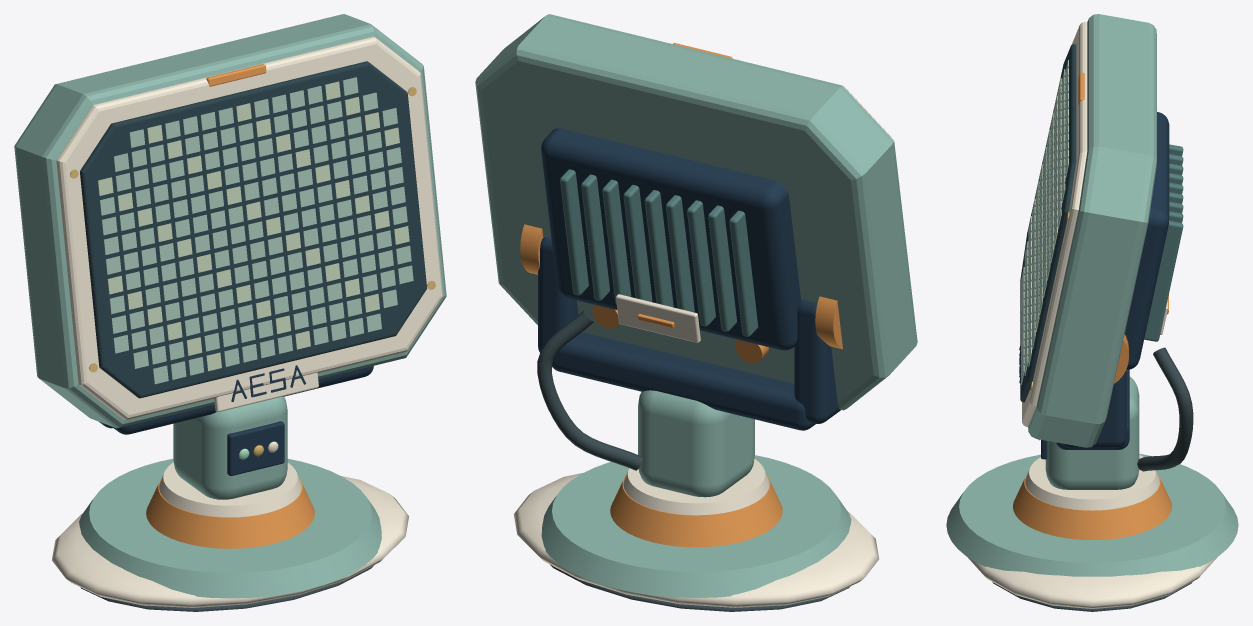
Rendered from AESA_Radar.glb.
3 renders of one model, left to right at view 1: azimuth 30°, elevation 25°; view 2: azimuth 150°, elevation 25°; view 3: azimuth 270°, elevation 25°, orthographic. The views are drawn at different scales.
Visible parts, largest first — view 1: Dark array inset, DecorativeArrayModules - Sage modules, Pedestal - Soft seafoam, Rounded octagonal outer housing, AntennaPanel - Warm ivory, Pedestal - Warm ivory, DecorativeArrayModules - Warm pale modules, Orange rotation collar, Front inset plate, AntennaSupport - Deep navy, Small ivory nameplate, Rubber underside (+2 smaller); view 2: Rounded octagonal outer housing, Pedestal - Soft seafoam, Rear electronics housing, AntennaPanel - Muted teal, AntennaSupport - Deep navy, Pedestal - Warm ivory, Orange rotation collar, Curved rear service cable, AntennaPanel - Warm ivory, AntennaSupport - Warm orange, AntennaPanel - Warm orange, Rubber underside; view 3: Rounded octagonal outer housing, Pedestal - Soft seafoam, Pedestal - Warm ivory, DecorativeArrayModules - Sage modules, Orange rotation collar, Rear electronics housing, AntennaPanel - Warm ivory, Dark array inset, AntennaPanel - Muted teal, Curved rear service cable, AntennaSupport - Deep navy, DecorativeArrayModules - Warm pale modules (+1 smaller).
Part boxes in pixels (bbox=[...]): Dark array inset: bbox=[80, 61, 426, 398]; DecorativeArrayModules - Sage modules: bbox=[99, 77, 413, 384]; Pedestal - Soft seafoam: bbox=[79, 396, 381, 598]; Rounded octagonal outer housing: bbox=[14, 14, 446, 428]; AntennaPanel - Warm ivory: bbox=[56, 36, 442, 419]; Pedestal - Warm ivory: bbox=[52, 441, 408, 607]; DecorativeArrayModules - Warm pale modules: bbox=[98, 81, 409, 371]; Orange rotation collar: bbox=[146, 478, 314, 548]; Front inset plate: bbox=[227, 421, 284, 475]; AntennaSupport - Deep navy: bbox=[99, 366, 373, 434]; Small ivory nameplate: bbox=[214, 372, 318, 411]; Rubber underside: bbox=[80, 565, 373, 611]; Rounded octagonal outer housing: bbox=[475, 14, 917, 410]; Pedestal - Soft seafoam: bbox=[541, 390, 851, 597]; Rear electronics housing: bbox=[541, 128, 800, 350]; AntennaPanel - Muted teal: bbox=[560, 169, 758, 336]; AntennaSupport - Deep navy: bbox=[538, 237, 840, 430]; Pedestal - Warm ivory: bbox=[513, 459, 879, 607]; Orange rotation collar: bbox=[610, 475, 782, 547]; Curved rear service cable: bbox=[537, 311, 642, 470]; AntennaPanel - Warm ivory: bbox=[616, 87, 891, 342]; AntennaSupport - Warm orange: bbox=[520, 224, 842, 349]; AntennaPanel - Warm orange: bbox=[592, 43, 768, 363]; Rubber underside: bbox=[550, 564, 849, 611]; Rounded octagonal outer housing: bbox=[1028, 14, 1156, 447]; Pedestal - Soft seafoam: bbox=[946, 376, 1238, 576]; Pedestal - Warm ivory: bbox=[967, 439, 1217, 608]; DecorativeArrayModules - Sage modules: bbox=[1021, 60, 1068, 384]; Orange rotation collar: bbox=[1013, 473, 1171, 539]; Rear electronics housing: bbox=[1125, 112, 1169, 369]; AntennaPanel - Warm ivory: bbox=[1022, 22, 1167, 426]; Dark array inset: bbox=[1020, 44, 1076, 402]; AntennaPanel - Muted teal: bbox=[1144, 144, 1183, 341]; Curved rear service cable: bbox=[1137, 347, 1193, 471]; AntennaSupport - Deep navy: bbox=[1056, 333, 1129, 449]; DecorativeArrayModules - Warm pale modules: bbox=[1021, 68, 1068, 367].
Size of the model in its own units: 2.61 by 3.28 by 1.84.
